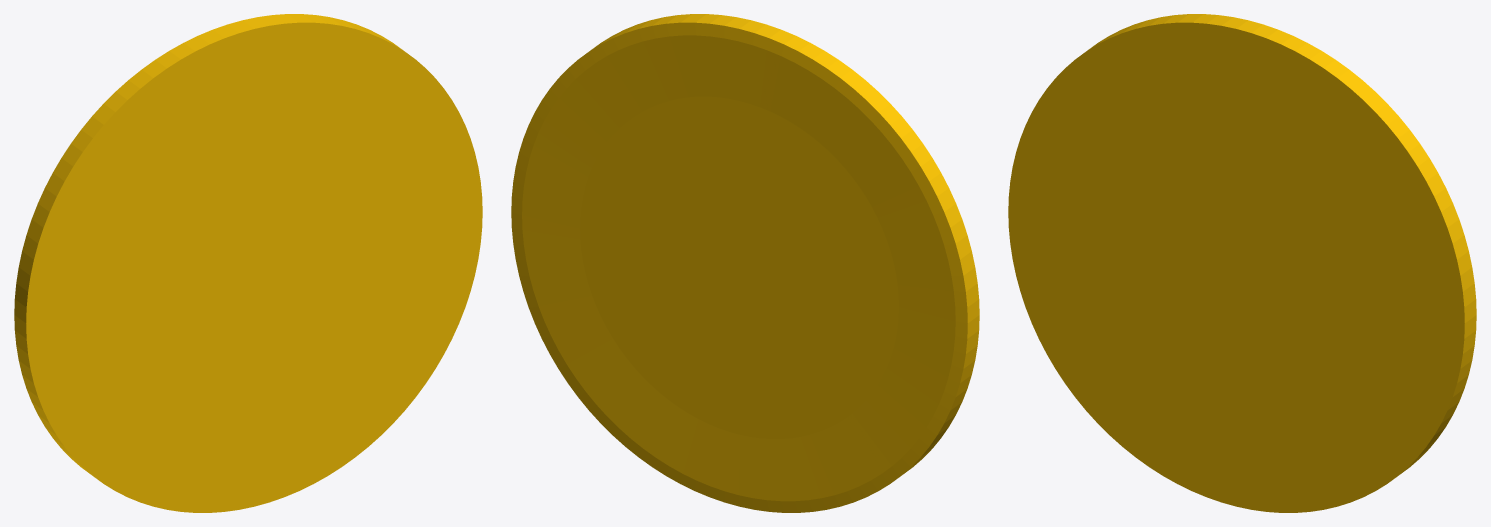
The model's file is gold-3.glb.
3 renders of one model, left to right at view 1: azimuth 30°, elevation 25°; view 2: azimuth 150°, elevation 25°; view 3: azimuth 330°, elevation 25°, orthographic.
Visible parts, largest first — view 1: Cylinder, Curve; view 2: Cylinder; view 3: Cylinder, Curve.
Part boxes in pixels (left/top/right/bottom): Cylinder: left=14, top=14, right=482, bottom=512; Curve: left=66, top=64, right=451, bottom=468; Cylinder: left=511, top=14, right=979, bottom=512; Cylinder: left=1008, top=14, right=1476, bottom=512; Curve: left=1043, top=65, right=1427, bottom=469.
Size of the model in its own units: 2 by 2 by 0.1151.
